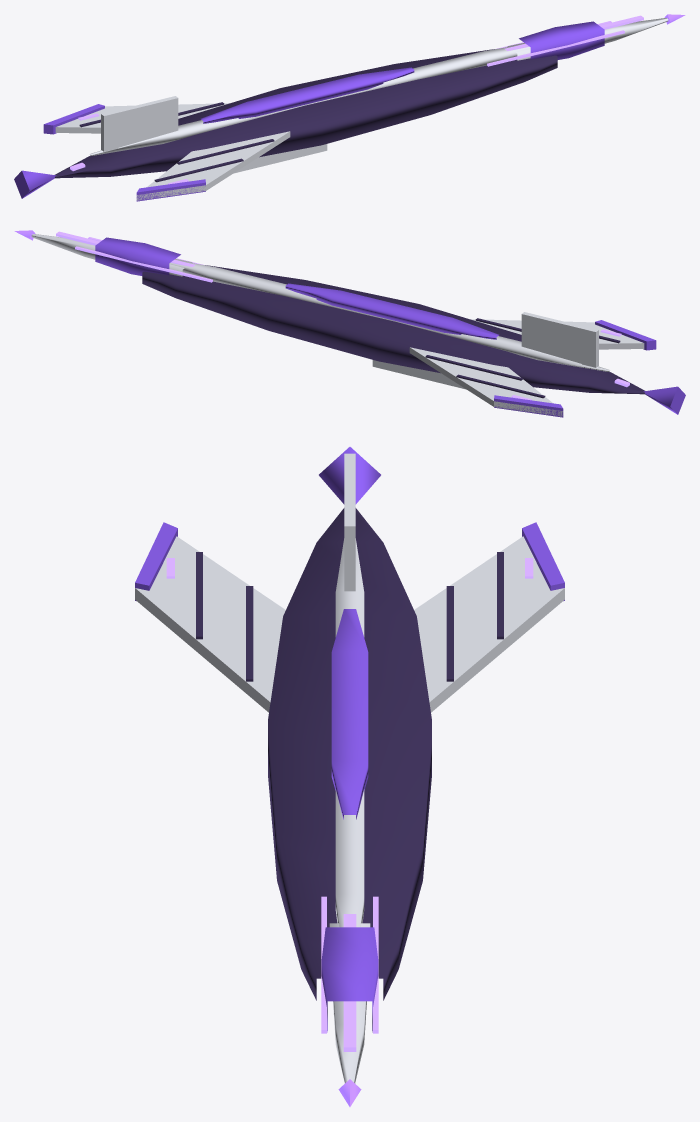
File: reciter-hadron.glb
3 views of the same model, one above another, from view 1: azimuth 30°, elevation 25°; view 2: azimuth 150°, elevation 25°; view 3: azimuth 270°, elevation 25° (orthographic). The views are drawn at different scales.
Parts seen in each view (by area): view 1: blade_hull, wing_s, spine_inlay, blade_spine, dorsal_fin, lance_crystal, wing_p, wing_edge_s, lance, keel, drive_prism, wing_edge_p (+4 smaller); view 2: blade_hull, spine_inlay, wing_p, blade_spine, dorsal_fin, lance_crystal, wing_s, wing_edge_p, lance, keel, drive_prism, wing_edge_s (+4 smaller); view 3: blade_hull, wing_s, wing_p, spine_inlay, blade_spine, lance_crystal, dorsal_fin, lance, drive_prism, wing_edge_s, wing_edge_p.
Part boxes in pixels (<box>): blade_hull: <box>54,49,557,178</box>; wing_s: <box>136,131,290,200</box>; spine_inlay: <box>201,67,414,123</box>; blade_spine: <box>90,45,530,155</box>; dorsal_fin: <box>101,96,178,151</box>; lance_crystal: <box>519,21,604,59</box>; wing_p: <box>55,103,228,133</box>; wing_edge_s: <box>136,179,205,201</box>; lance: <box>507,18,668,60</box>; keel: <box>233,144,327,173</box>; drive_prism: <box>14,170,56,198</box>; wing_edge_p: <box>43,104,104,134</box>; blade_hull: <box>142,265,645,394</box>; spine_inlay: <box>285,283,498,339</box>; wing_p: <box>409,347,563,416</box>; blade_spine: <box>169,261,609,371</box>; dorsal_fin: <box>521,312,598,367</box>; lance_crystal: <box>95,237,180,275</box>; wing_s: <box>471,319,644,349</box>; wing_edge_p: <box>494,395,563,417</box>; lance: <box>31,234,192,276</box>; keel: <box>372,360,466,389</box>; drive_prism: <box>643,386,685,414</box>; wing_edge_s: <box>595,320,656,350</box>; blade_hull: <box>268,508,431,1000</box>; wing_s: <box>135,536,285,712</box>; wing_p: <box>414,536,564,712</box>; spine_inlay: <box>331,609,368,819</box>; blade_spine: <box>335,538,364,927</box>; lance_crystal: <box>321,927,378,1032</box>; dorsal_fin: <box>344,453,355,591</box>; lance: <box>329,923,370,1083</box>; drive_prism: <box>319,447,380,504</box>; wing_edge_s: <box>135,522,177,601</box>; wing_edge_p: <box>522,522,564,601</box>.
Bounding box in the file's own units: 100 × 12.8 × 28.04.
